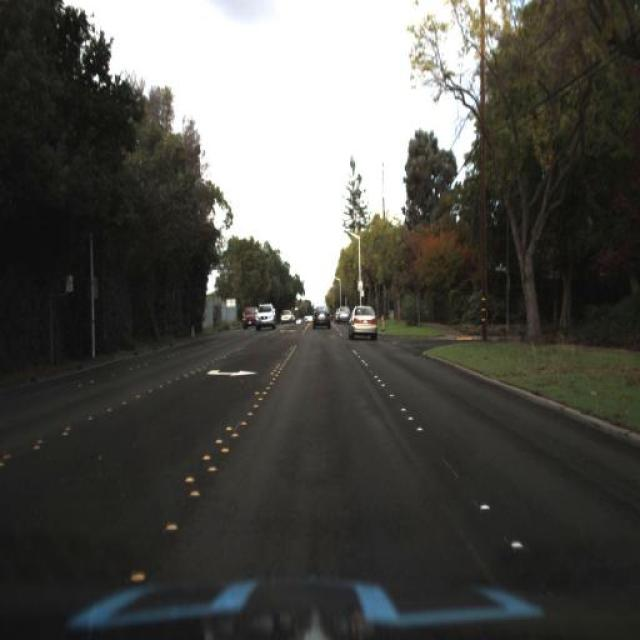car: (347, 296, 378, 339), (252, 296, 272, 328), (334, 300, 356, 329), (310, 299, 330, 330), (238, 304, 254, 328), (334, 300, 348, 326), (278, 305, 292, 330)
